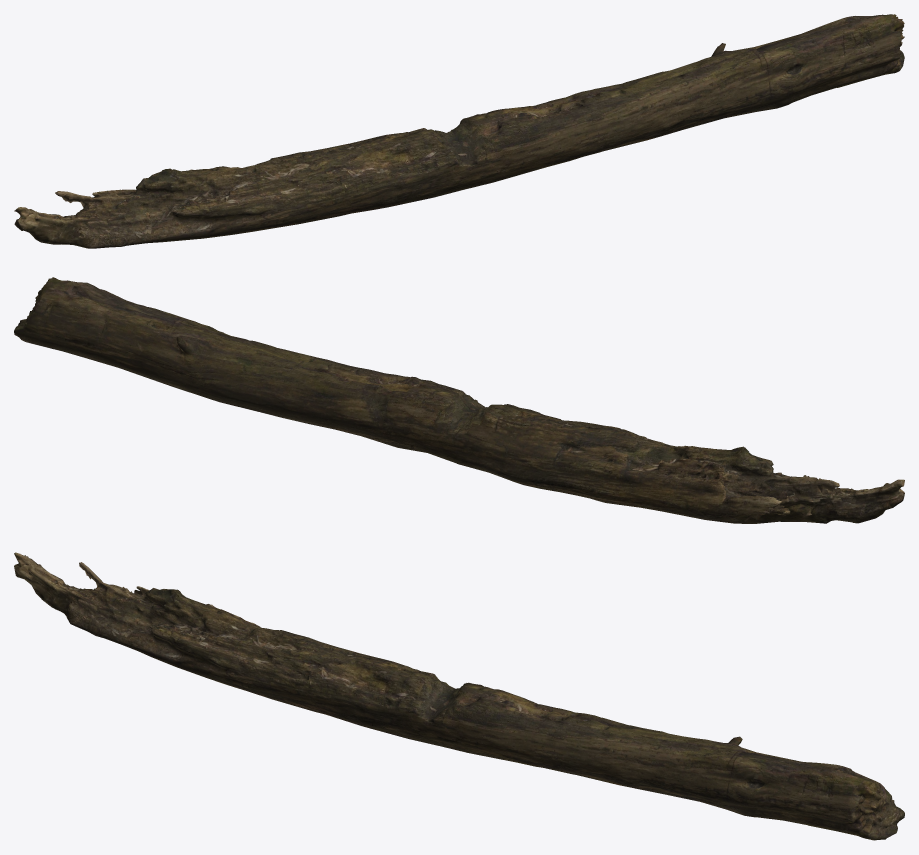
The model's file is dead_tree_trunk_1k_md.glb.
3 renders of one model, top to bottom at view 1: azimuth 30°, elevation 25°; view 2: azimuth 150°, elevation 25°; view 3: azimuth 330°, elevation 25°, orthographic.
Visible parts, largest first — view 1: dead_tree_trunk; view 2: dead_tree_trunk; view 3: dead_tree_trunk.
Part boxes in pixels (x1,y1,x2,y2): dead_tree_trunk: (14,14,904,248); dead_tree_trunk: (14,277,904,523); dead_tree_trunk: (14,552,904,840).
Size of the model in its own units: 3.05 by 0.2904 by 0.2774.
1 material, 1 textured.
